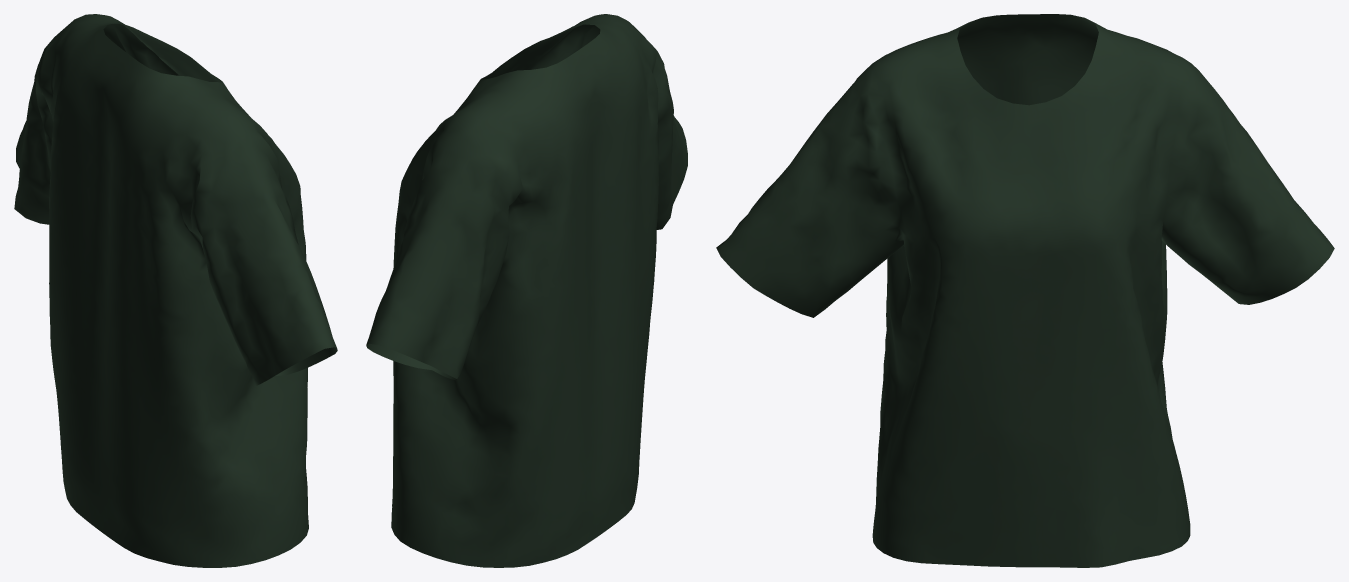
The model's file is futbolkagltf.gltf.
The picture shows the model from 3 angles, left to right: view 1: azimuth 30°, elevation 25°; view 2: azimuth 150°, elevation 25°; view 3: azimuth 270°, elevation 25°; orthographic projection. The views are drawn at different scales.
Visible parts, largest first — view 1: qwerty; view 2: qwerty; view 3: qwerty.
Part boxes in pixels (x1,y1,x2,y2): qwerty: (14, 14, 337, 567); qwerty: (366, 14, 687, 567); qwerty: (716, 14, 1334, 567).
Size of the model in its own units: 0.7811 by 1.96 by 2.23.
Materials: 1 (1 with a texture image).
